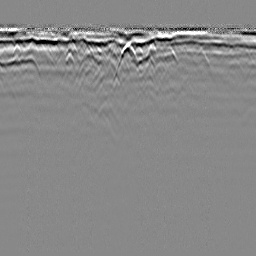cavity: (118, 38, 137, 61)
